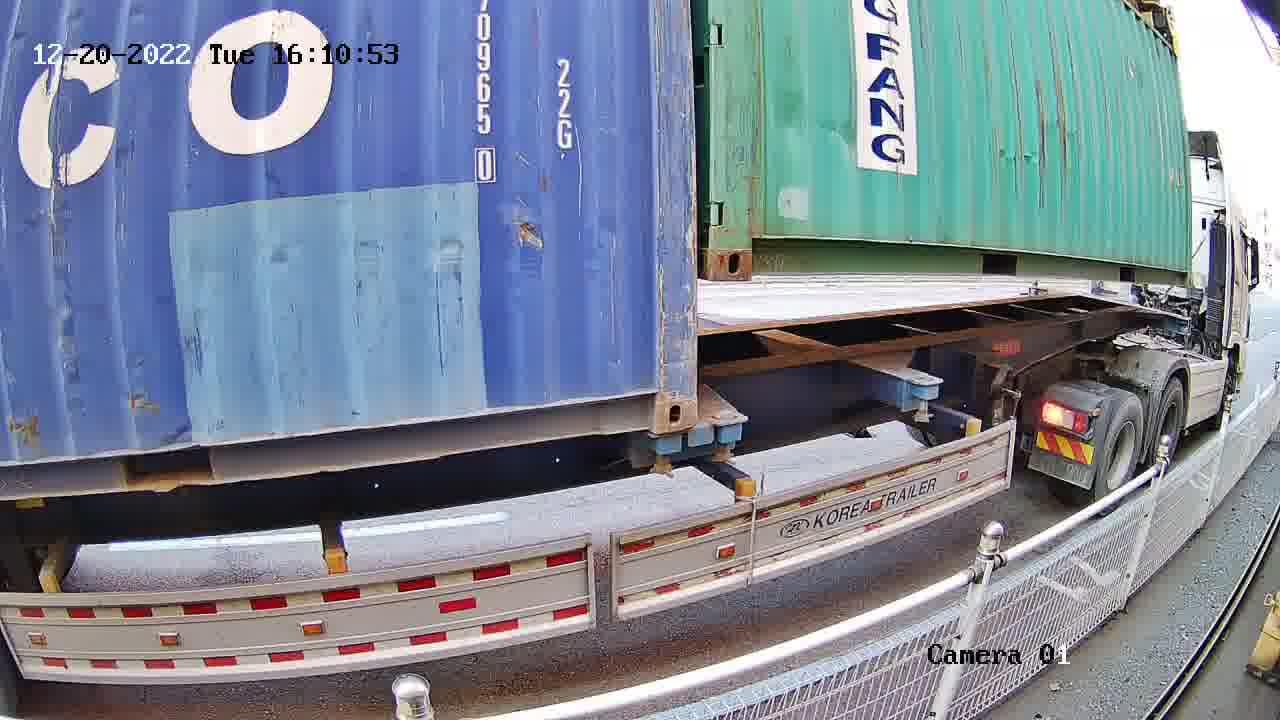Cone: (643, 430, 688, 480), (709, 413, 749, 468)
Hole_L: (709, 200, 788, 279)
Hole_R: (618, 354, 697, 432)
Tire: (1093, 396, 1145, 513), (1153, 382, 1186, 469)
